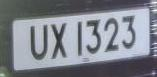1: (72, 14, 88, 62)
2: (101, 11, 123, 57)
3: (84, 14, 105, 56), (119, 12, 139, 54)
U: (26, 22, 52, 64)
X: (48, 18, 70, 63)
